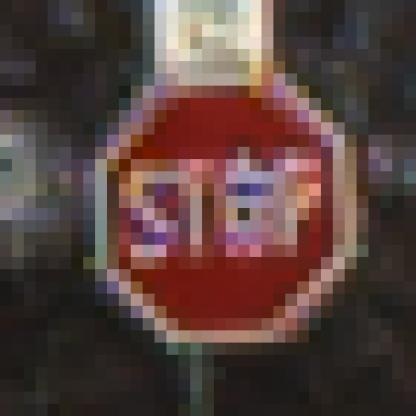Stop: (99, 80, 346, 338)
